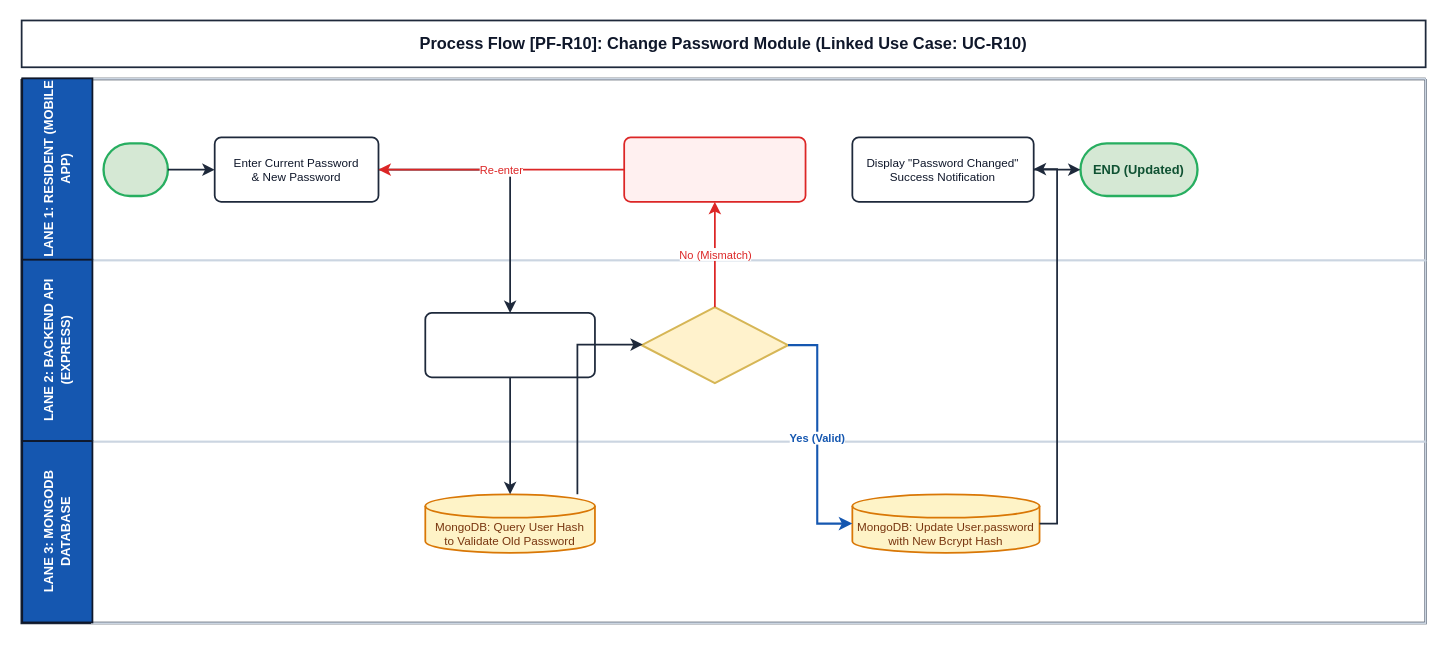
The diagram is 1446 pixels wide and 645 high, and some of its shapes have lost their labels. The shapes that lost their labels are listed below. From the top down, each one's box as (x1, y1, x2, y2) in pixels, then its label:
(102, 142, 168, 197): START
(623, 136, 806, 202): Show "Incorrect Current Password" Error Banner
(424, 312, 595, 378): PUT /api/auth/change-password with Password Payload
(640, 305, 788, 384): Old Password Matches?
